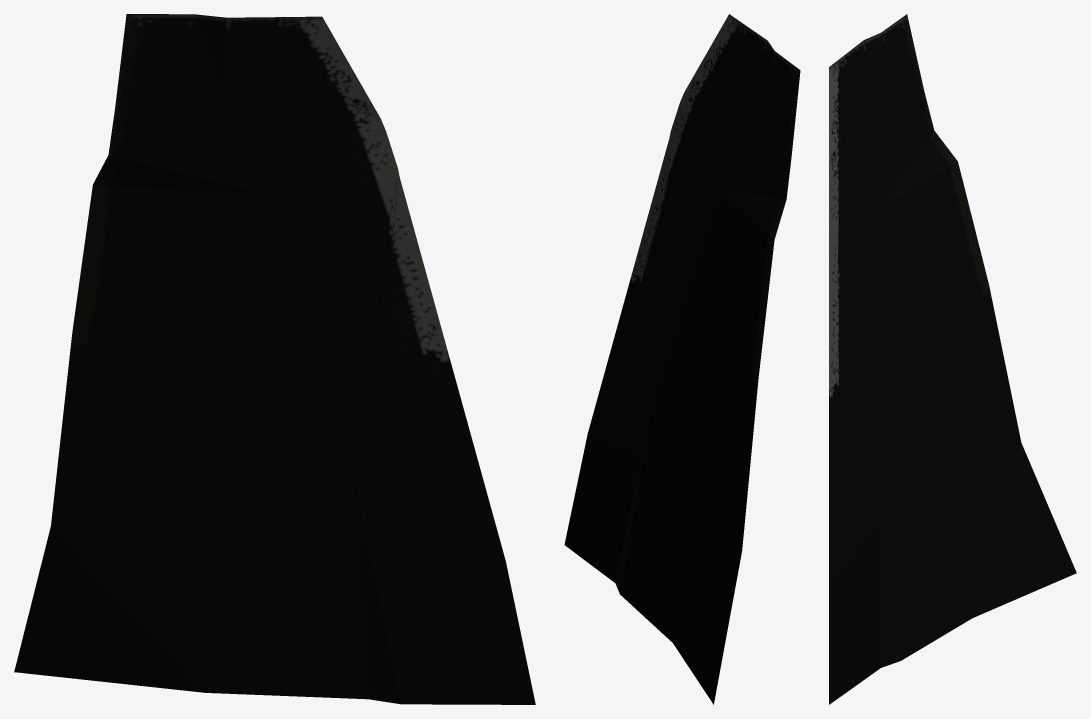
3 views of the same model, side by side, from view 1: azimuth 30°, elevation 25°; view 2: azimuth 150°, elevation 25°; view 3: azimuth 270°, elevation 25° (orthographic). The views are drawn at different scales.
Bounding box in the file's own units: 0.8465 × 1.67 × 0.6726.
Materials: 1 (1 with a texture image).
